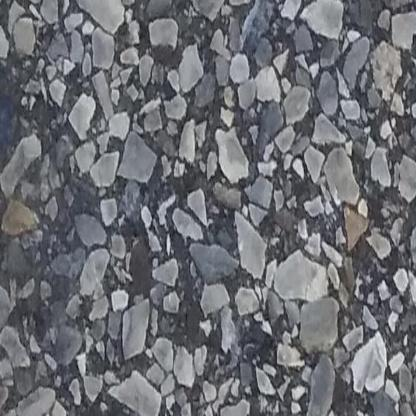Cracks: (0, 51, 88, 337)
